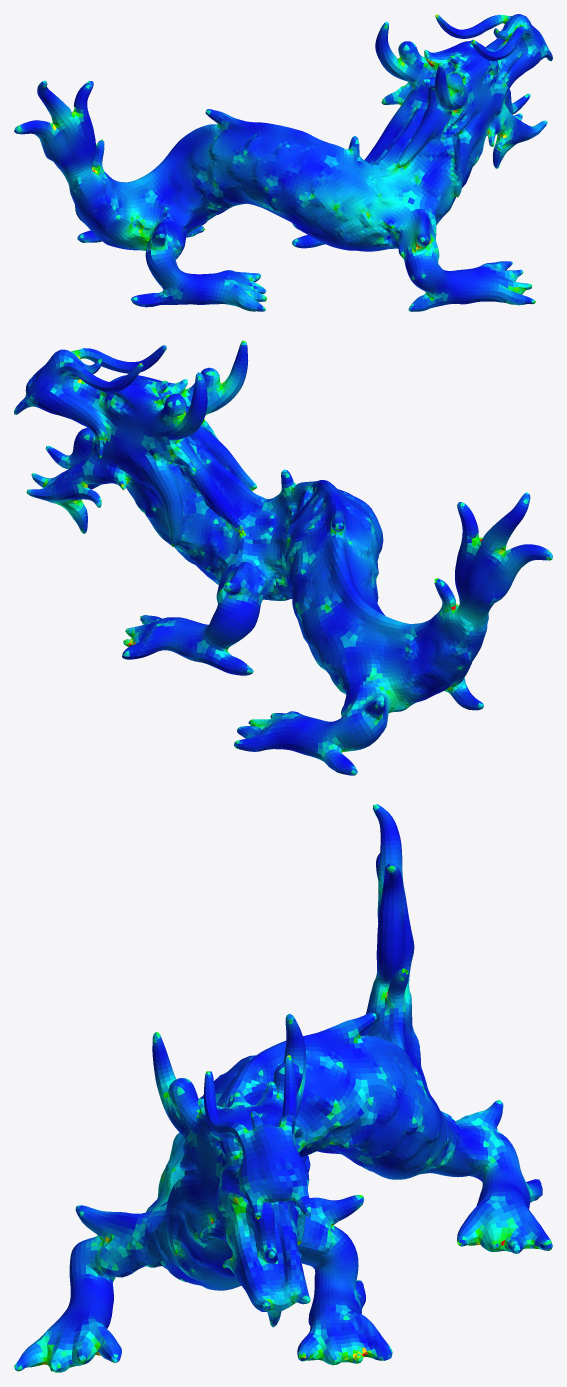
The model's file is dragon_opt_quality.obj.
The picture shows the model from 3 angles, top to bottom: view 1: azimuth 30°, elevation 25°; view 2: azimuth 150°, elevation 25°; view 3: azimuth 270°, elevation 25°; orthographic projection. The views are drawn at different scales.
Size of the model in its own units: 201 by 89.64 by 133.
